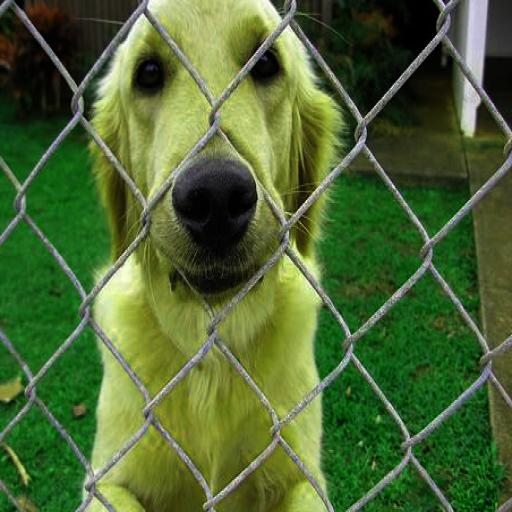dog_face: (93, 0, 320, 279)
